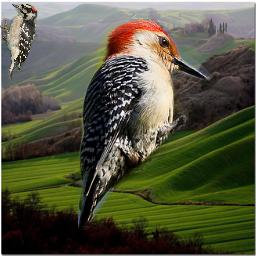Woodpecker: (78, 19, 214, 230), (0, 4, 38, 82)
